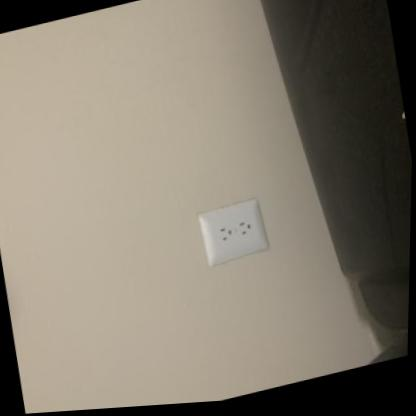OUTLET: (194, 195, 268, 265)
